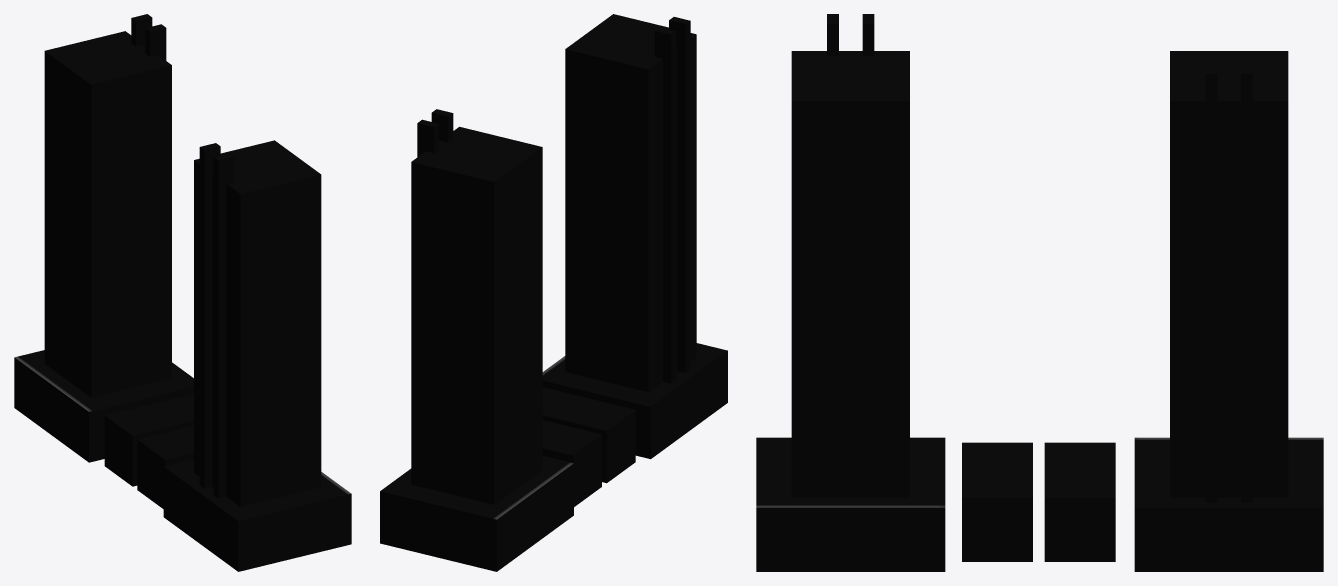
Rendered from launcher_tier_3.obj.
The picture shows the model from 3 angles, left to right: view 1: azimuth 30°, elevation 25°; view 2: azimuth 150°, elevation 25°; view 3: azimuth 270°, elevation 25°; orthographic projection. The views are drawn at different scales.
Parts seen in each view (by area): view 1: Shape9, Shape9.001, rail.001_Shape21.001, rail_Shape21, Shape16.001, Shape20.001, Shape12, base_Shape13, Shape20, Shape16; view 2: Shape9, Shape9.001, rail_Shape21, rail.001_Shape21.001, Shape20.001, Shape16.001, base_Shape13, Shape12, Shape16, Shape20; view 3: Shape9.001, Shape9, rail.001_Shape21.001, rail_Shape21, Shape12, base_Shape13, Shape20, Shape16.
Part boxes in pixels (bbox=[...]): Shape9: bbox=[44, 31, 171, 397]; Shape9.001: bbox=[194, 140, 321, 506]; rail.001_Shape21.001: bbox=[163, 459, 351, 571]; rail_Shape21: bbox=[14, 350, 193, 462]; Shape16.001: bbox=[213, 153, 234, 498]; Shape20.001: bbox=[199, 143, 220, 488]; Shape12: bbox=[104, 394, 193, 486]; base_Shape13: bbox=[137, 425, 193, 508]; Shape20: bbox=[145, 24, 166, 60]; Shape16: bbox=[131, 14, 152, 46]; Shape9: bbox=[411, 126, 542, 504]; Shape9.001: bbox=[565, 14, 696, 392]; rail_Shape21: bbox=[380, 456, 573, 571]; rail.001_Shape21.001: bbox=[542, 343, 727, 459]; Shape20.001: bbox=[654, 27, 676, 383]; Shape16.001: bbox=[669, 17, 690, 372]; base_Shape13: bbox=[542, 387, 635, 483]; Shape12: bbox=[542, 420, 601, 506]; Shape16: bbox=[417, 119, 438, 156]; Shape20: bbox=[431, 109, 453, 142]; Shape9.001: bbox=[791, 51, 909, 497]; Shape9: bbox=[1170, 51, 1288, 497]; rail.001_Shape21.001: bbox=[756, 437, 945, 571]; rail_Shape21: bbox=[1134, 437, 1323, 571]; Shape12: bbox=[1044, 442, 1115, 561]; base_Shape13: bbox=[962, 442, 1032, 561]; Shape20: bbox=[1205, 64, 1217, 502]; Shape16: bbox=[1241, 64, 1252, 502].
Size of the model in its own units: 0.875 by 2.88 by 3.
